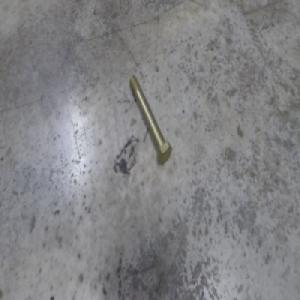Bolt: (131, 74, 174, 164)
